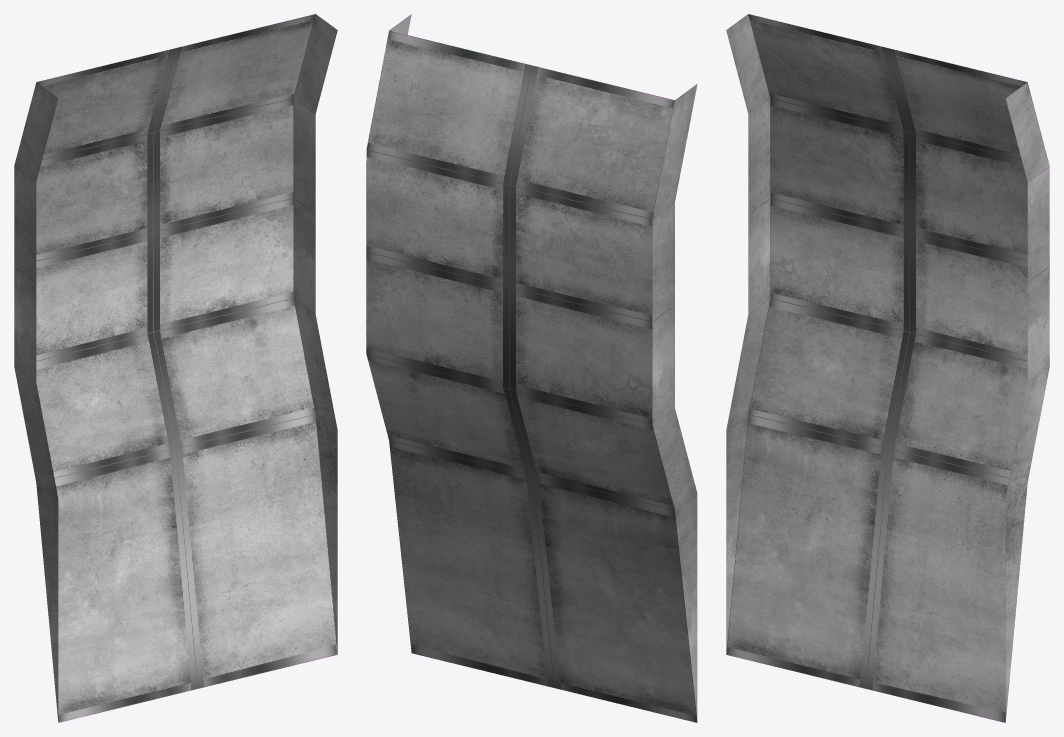
Rendered from Wall002.fbx.
3 renders of one model, left to right at view 1: azimuth 30°, elevation 25°; view 2: azimuth 150°, elevation 25°; view 3: azimuth 330°, elevation 25°, orthographic. The views are drawn at different scales.
Visible parts, largest first — view 1: Wall002; view 2: Wall002; view 3: Wall002.
Part boxes in pixels (x1,y1,x2,y2): Wall002: (14, 14, 337, 722); Wall002: (366, 14, 697, 722); Wall002: (726, 14, 1049, 722).
Bounding box in the file's own units: 185 × 396 × 50.87.
